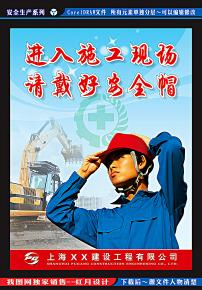helmet: (99, 131, 152, 163)
